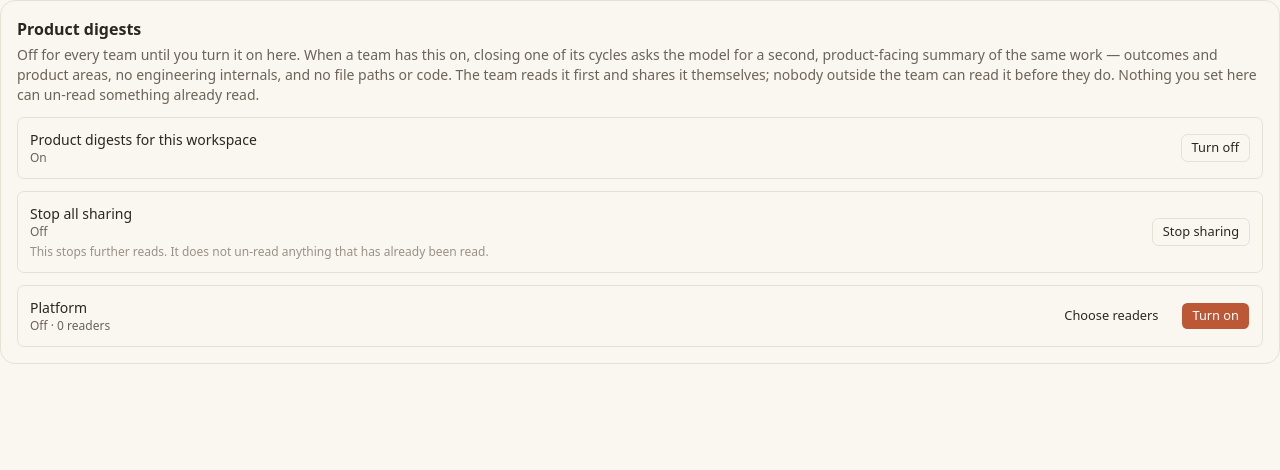
the readers disclosure always points at an element that exists
Click the button with test id "pm-disclosure-readers-toggle" at (1111, 316), box [1053, 302, 1169, 330]
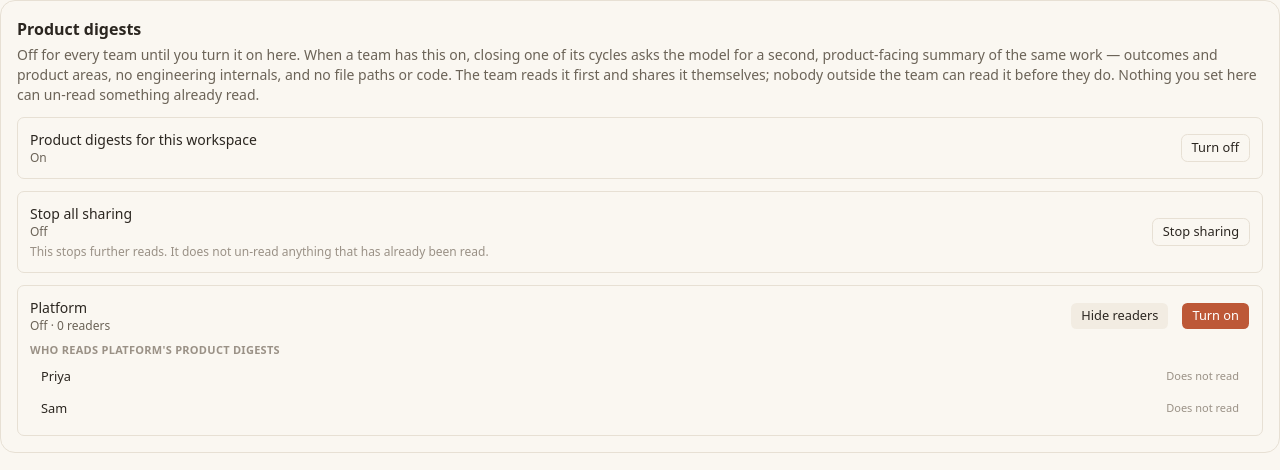
Now the button with test id "pm-disclosure-readers-toggle" is expanded, box [1070, 302, 1169, 330]
